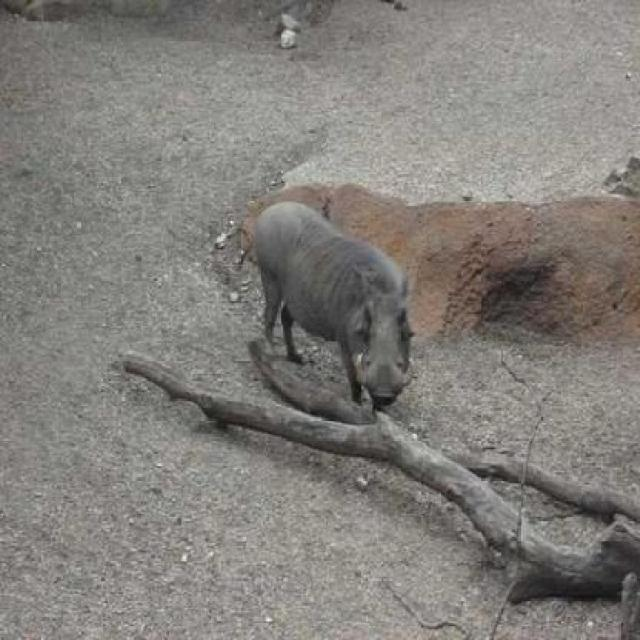Boar: (242, 142, 464, 388)
